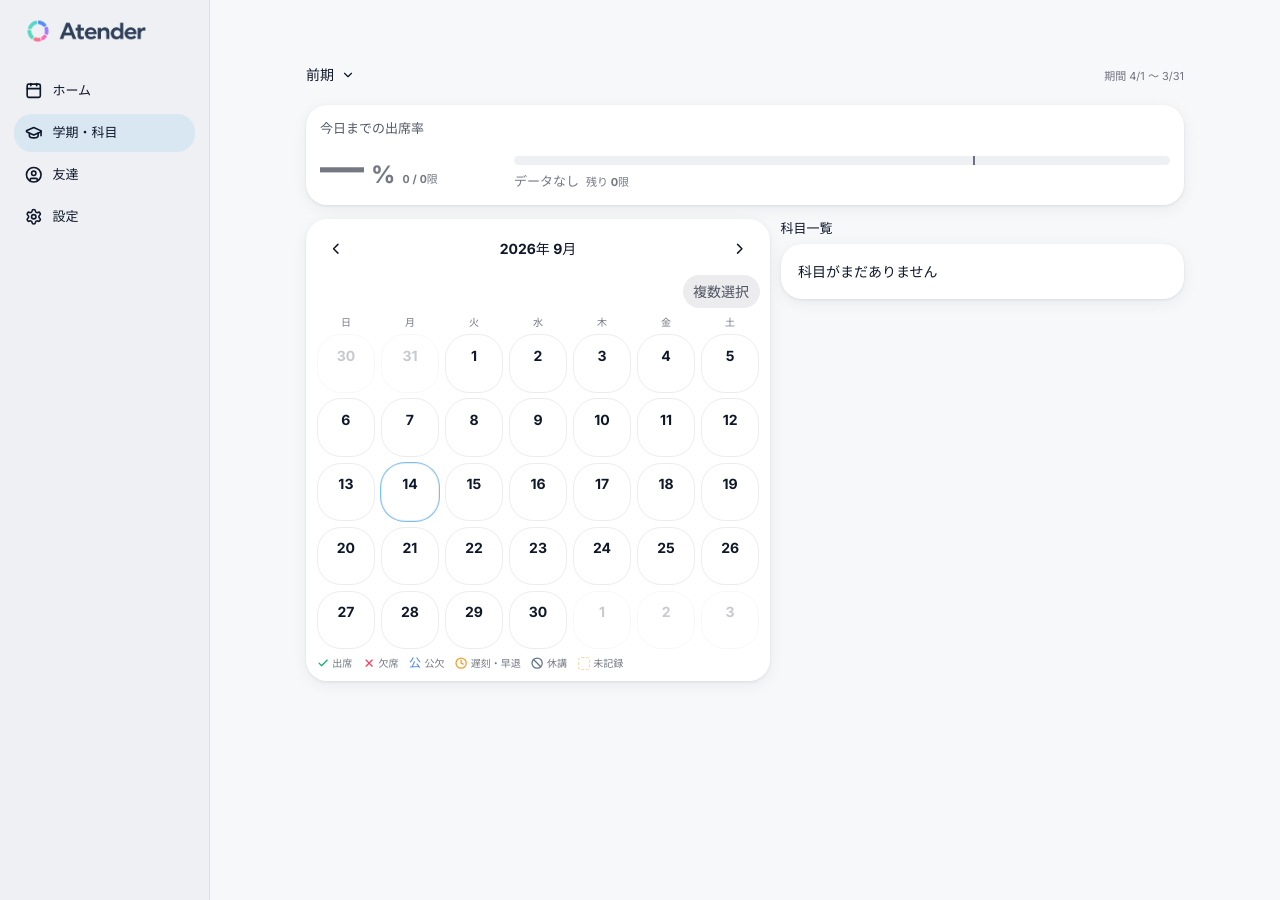
[D] class transfer in day detail › [D5] defaults: 曜日ごと, 金 selected, 2 preview rows, suspension ON, date 2026-09-11
The width and height of the screenshot is (1280, 900).
Click the button named "9月14日" at (410, 492), box [380, 462, 439, 521]
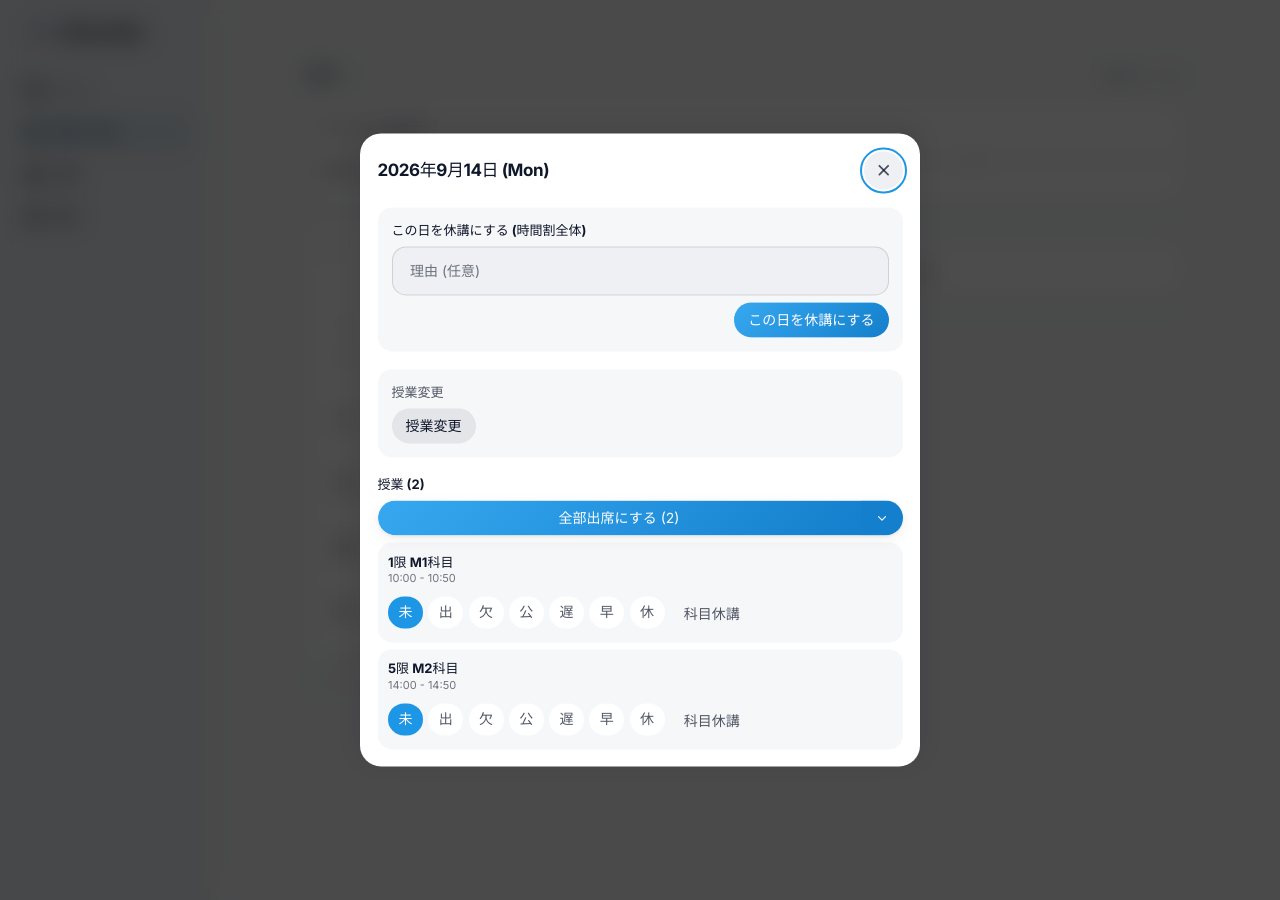
Expected: the heading "2026年9月14日 (Mon)" is shown, [378, 157, 549, 183]
Click the button "授業変更" at (434, 426), box [392, 409, 476, 444]
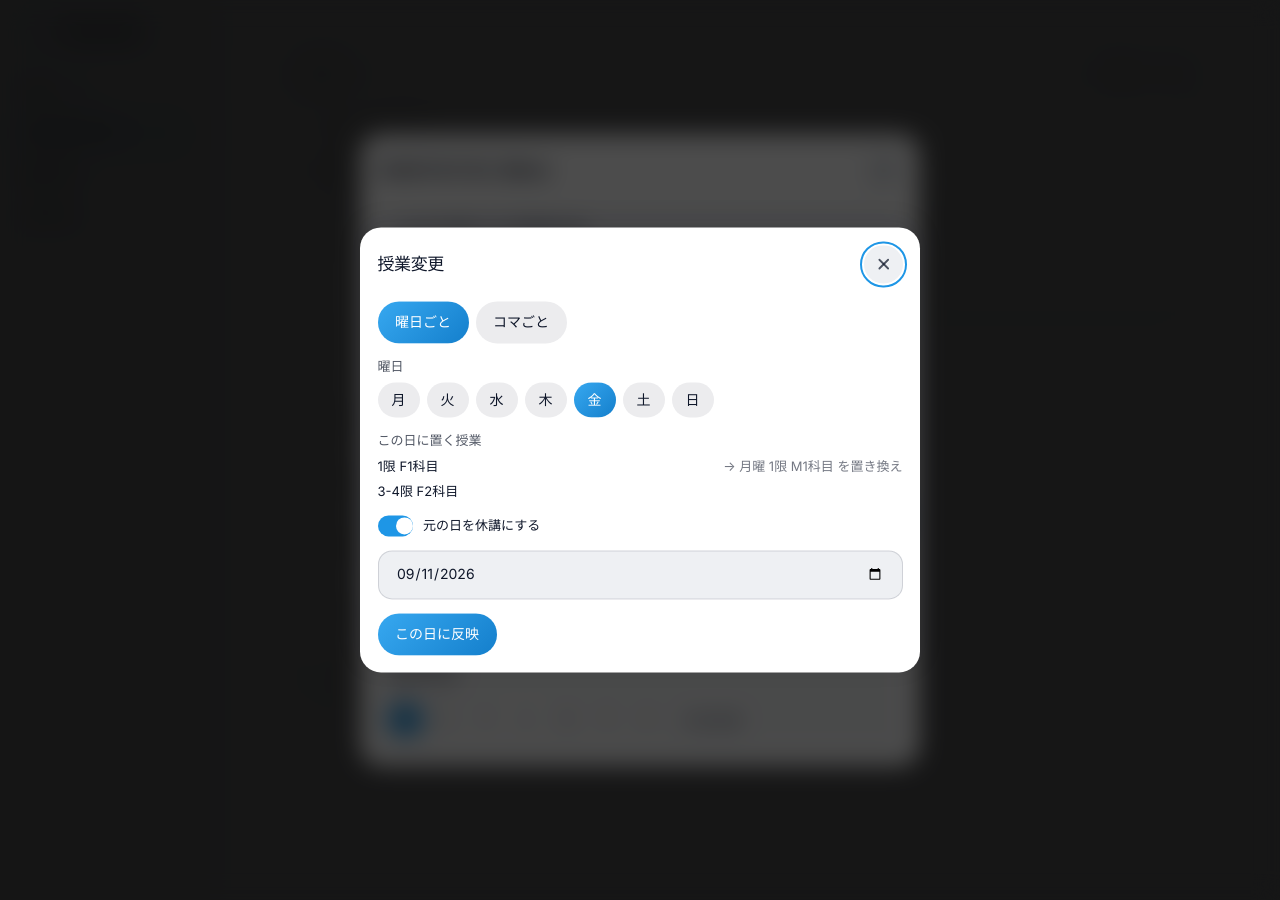
Expected: the heading "この日に置く授業" is shown, [378, 432, 482, 448]
Expected: the element with test id "class-transfer-sheet" shows "1限", [378, 458, 396, 474]
Expected: the element with test id "class-transfer-sheet" shows "F1科目", [400, 458, 438, 474]
